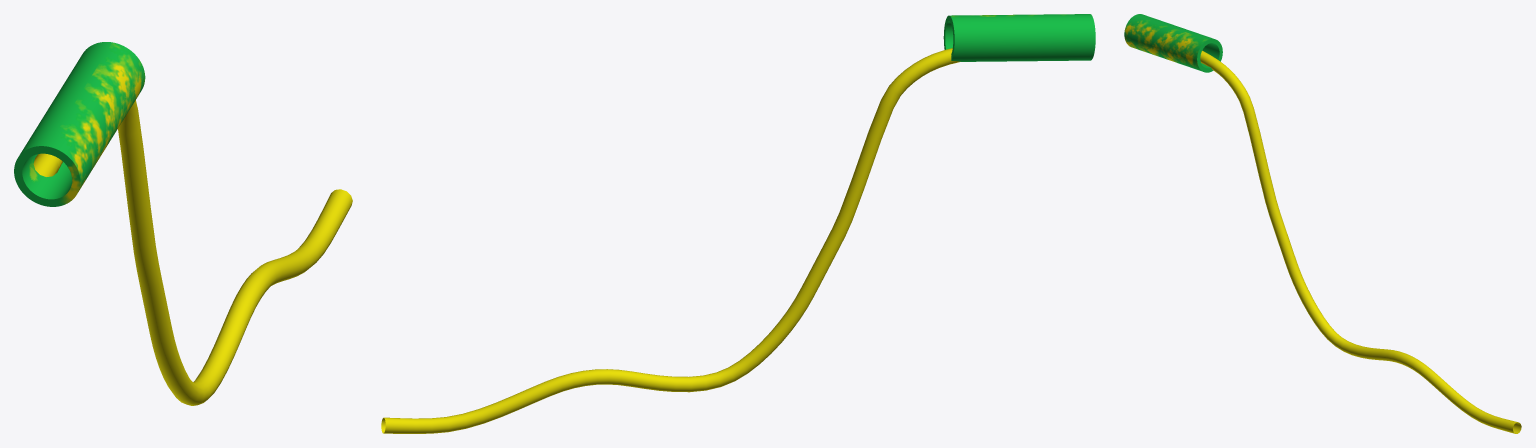
Rendered from hose.FBX.
3 views of the same model, side by side, from view 1: azimuth 30°, elevation 25°; view 2: azimuth 150°, elevation 25°; view 3: azimuth 270°, elevation 25° (orthographic). The views are drawn at different scales.
Parts seen in each view (by area): view 1: node_id6, root; view 2: node_id6, root; view 3: node_id6, root.
Boxes of the visible parts, left/top/right/bottom form: node_id6: left=33, top=100, right=352, bottom=405; root: left=14, top=42, right=145, bottom=206; node_id6: left=381, top=48, right=960, bottom=433; root: left=943, top=14, right=1095, bottom=61; node_id6: left=1200, top=50, right=1521, bottom=433; root: left=1124, top=14, right=1222, bottom=72.
Size of the model in its own units: 0.7547 by 0.5479 by 0.7399.
2 materials, 2 textured.
